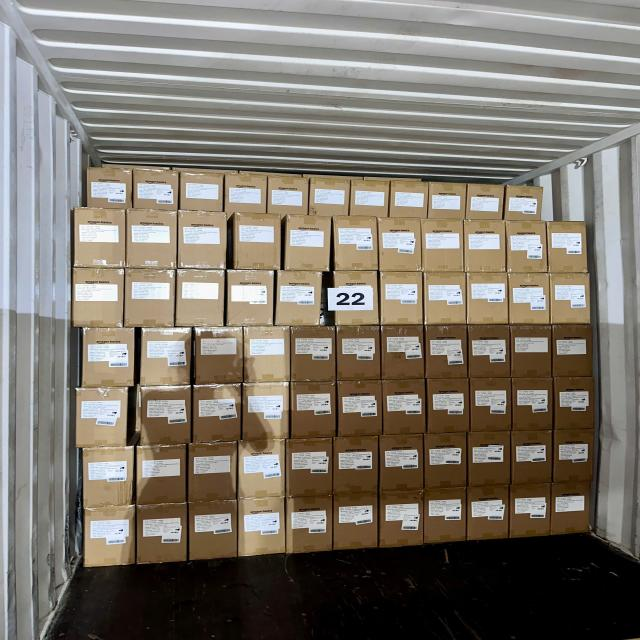Carton: (78, 389, 132, 451), (80, 326, 134, 388), (73, 205, 126, 267), (140, 388, 194, 448), (82, 446, 135, 507), (86, 507, 138, 569), (72, 268, 124, 329), (127, 208, 179, 268), (143, 327, 195, 387), (135, 505, 186, 566), (124, 269, 176, 328), (136, 446, 187, 506), (189, 499, 238, 561), (188, 443, 238, 503), (178, 268, 228, 328), (178, 210, 228, 270), (192, 385, 242, 444), (236, 500, 284, 561), (240, 439, 288, 498), (244, 383, 292, 442), (286, 441, 333, 501), (232, 215, 281, 272), (195, 328, 243, 386), (275, 268, 323, 326), (286, 499, 333, 558), (244, 326, 291, 384), (225, 268, 272, 325), (378, 433, 423, 492), (334, 435, 379, 494), (284, 216, 331, 272), (333, 497, 379, 554), (289, 383, 335, 440), (381, 493, 426, 551), (332, 270, 379, 325), (337, 326, 382, 383), (290, 327, 334, 384), (338, 381, 382, 438), (333, 218, 378, 273), (380, 325, 424, 381), (384, 377, 428, 433), (424, 488, 466, 546), (425, 376, 468, 432), (378, 218, 422, 272), (382, 270, 425, 325), (469, 379, 512, 434), (469, 434, 512, 489), (510, 378, 552, 434), (424, 435, 466, 491), (508, 483, 550, 538), (552, 429, 594, 484), (469, 486, 510, 542), (466, 219, 509, 272), (425, 326, 467, 380), (470, 325, 511, 380), (510, 326, 553, 378), (424, 271, 466, 324), (552, 326, 593, 380), (514, 433, 555, 487), (507, 222, 548, 276), (551, 482, 592, 536), (554, 376, 594, 431), (468, 272, 510, 324), (508, 272, 550, 324), (423, 217, 463, 271), (547, 222, 587, 274), (551, 273, 591, 324), (133, 169, 178, 213), (86, 167, 132, 210), (182, 170, 226, 214), (223, 174, 266, 218), (308, 177, 349, 219), (268, 175, 308, 218), (349, 180, 389, 220), (504, 186, 543, 225), (392, 182, 430, 222), (430, 183, 467, 222), (468, 183, 505, 222)
